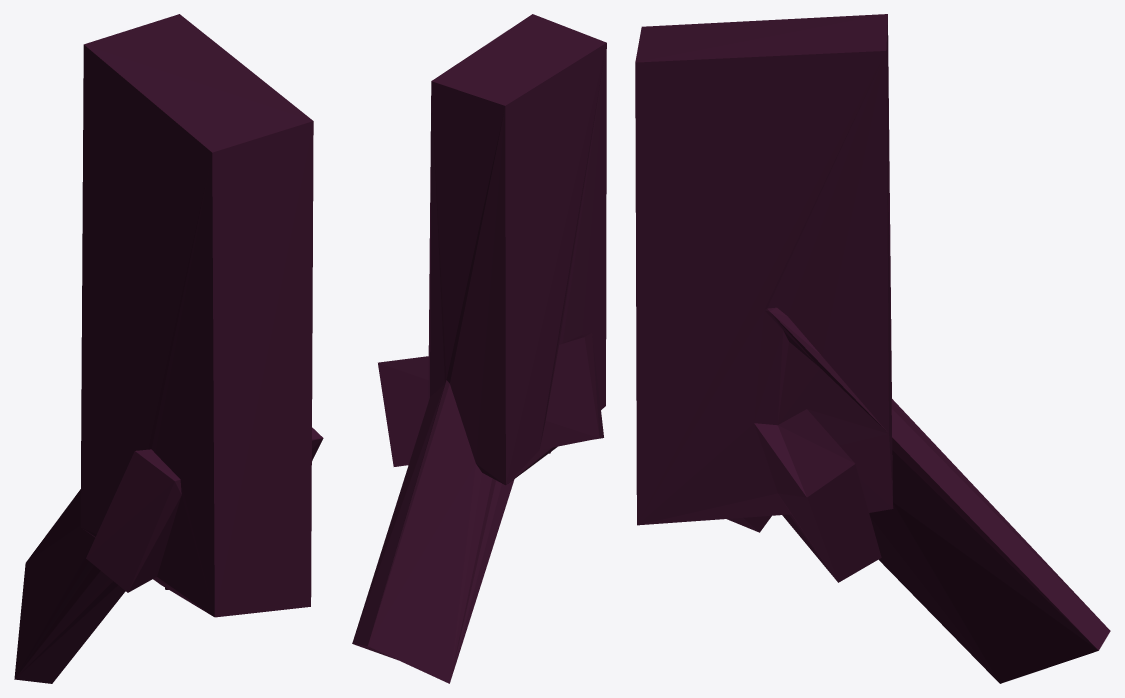
3 views of the same model, side by side, from view 1: azimuth 30°, elevation 25°; view 2: azimuth 150°, elevation 25°; view 3: azimuth 270°, elevation 25° (orthographic). The views are drawn at different scales.
Visible parts, largest first — view 1: 019_Cube.088; view 2: 019_Cube.088; view 3: 019_Cube.088.
Boxes of the visible parts, left/top/right/bottom form: 019_Cube.088: left=14, top=14, right=323, bottom=683; 019_Cube.088: left=352, top=14, right=606, bottom=683; 019_Cube.088: left=635, top=14, right=1110, bottom=683.
Bounding box in the file's own units: 6.66 × 17.29 × 11.21.
